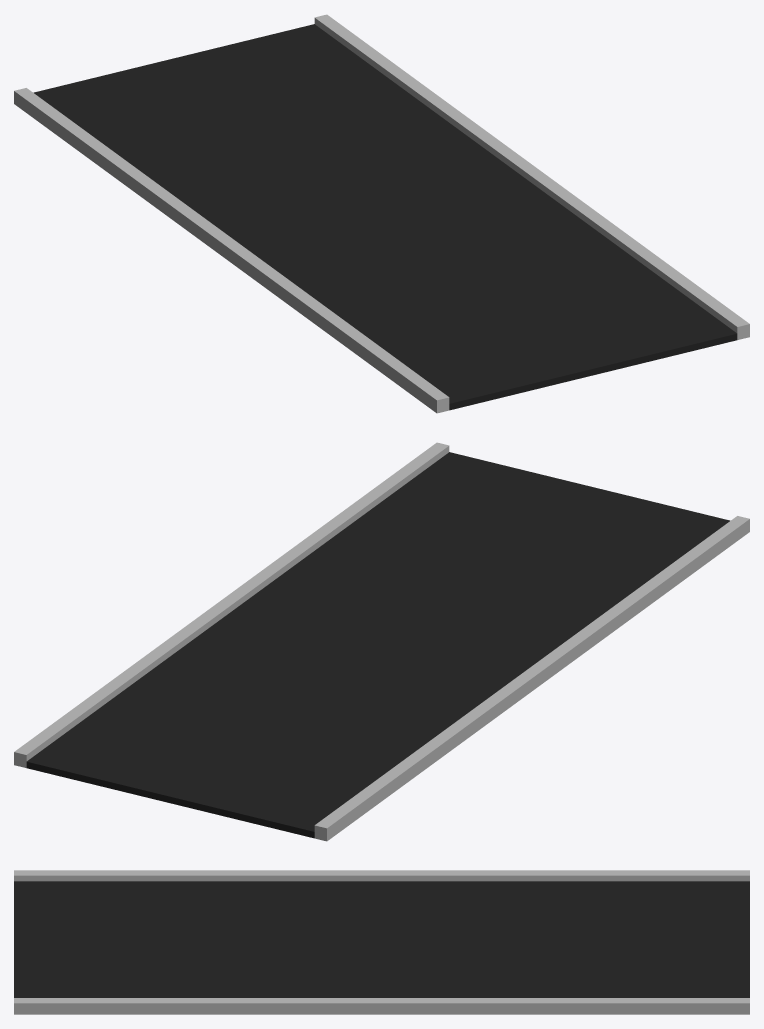
Rendered from All-13-Road_5m.obj.
3 renders of one model, top to bottom at view 1: azimuth 30°, elevation 25°; view 2: azimuth 150°, elevation 25°; view 3: azimuth 270°, elevation 25°, orthographic. The views are drawn at different scales.
Visible parts, largest first — view 1: Road_5m; view 2: Road_5m; view 3: Road_5m.
Boxes of the visible parts, x1,y1,x2,y2 form: Road_5m: [14, 14, 749, 413]; Road_5m: [14, 442, 749, 841]; Road_5m: [14, 870, 749, 1014].
Size of the model in its own units: 5 by 0.2 by 11.7.
1 material, 1 textured.
